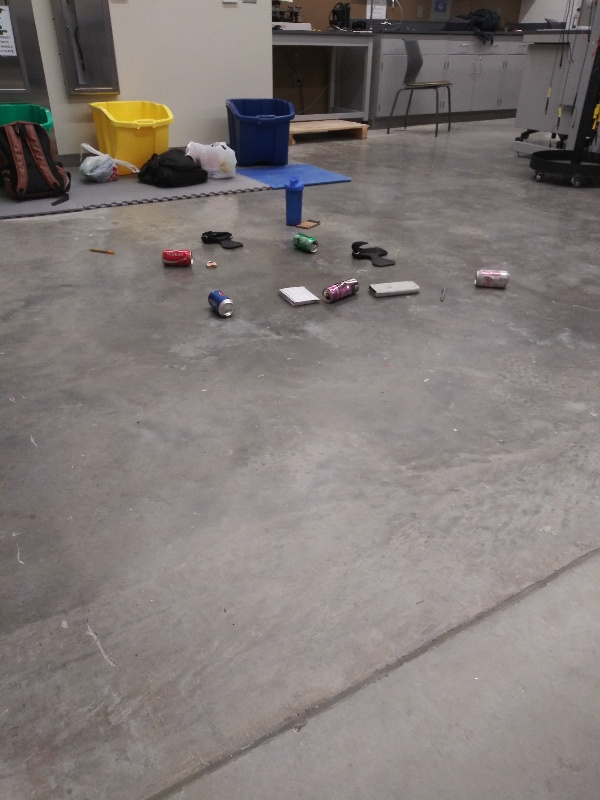can: (317, 273, 362, 306), (203, 288, 236, 320), (470, 268, 514, 292), (157, 245, 197, 270), (288, 230, 320, 255)
